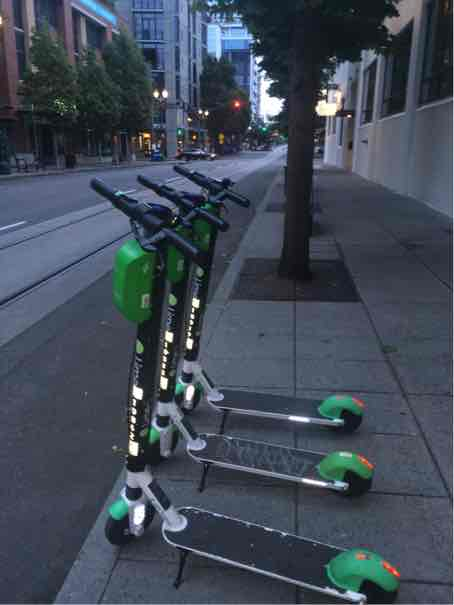too close: (82, 486, 182, 557), (110, 412, 202, 479)
